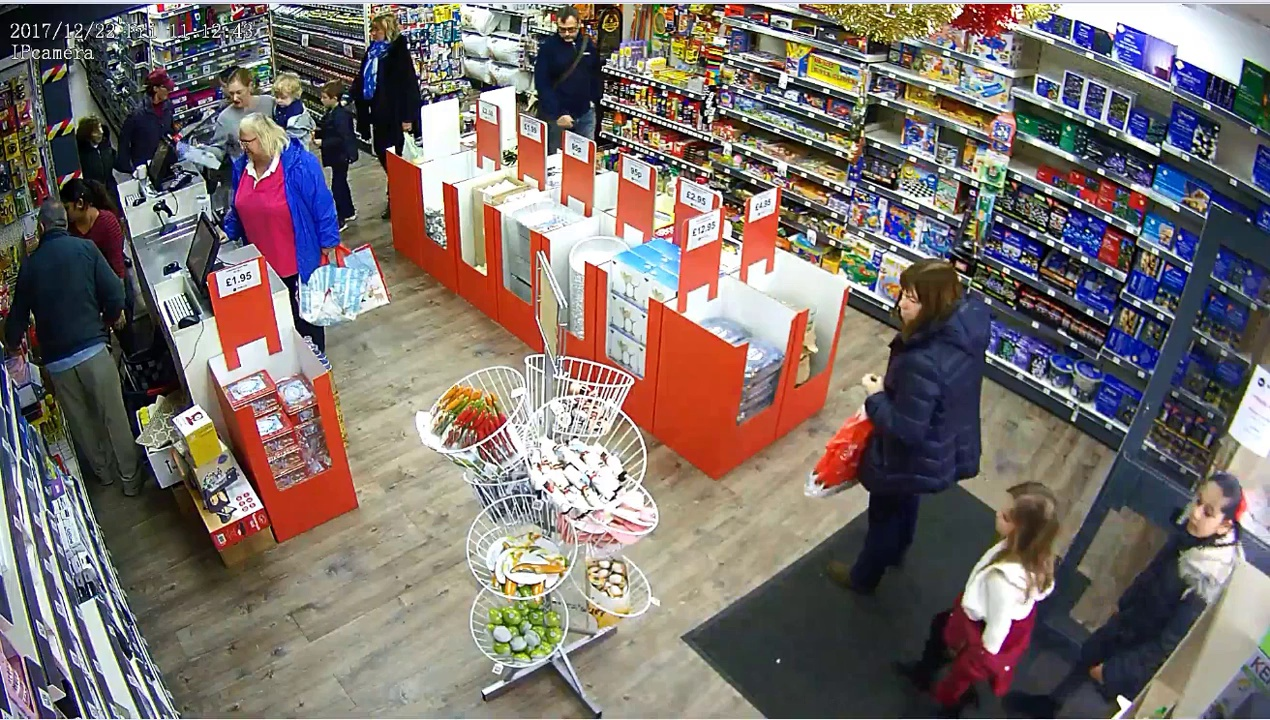face: (1189, 481, 1226, 537), (892, 277, 929, 327), (551, 17, 580, 48), (241, 125, 264, 163), (276, 86, 297, 115), (154, 78, 177, 101), (369, 18, 388, 44), (85, 122, 104, 148), (227, 77, 245, 104), (319, 89, 336, 109)
